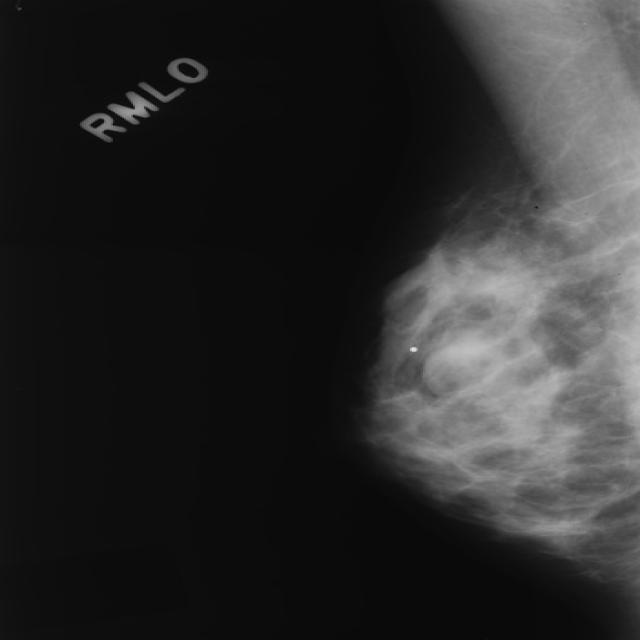tumour: (421, 336, 500, 394)
